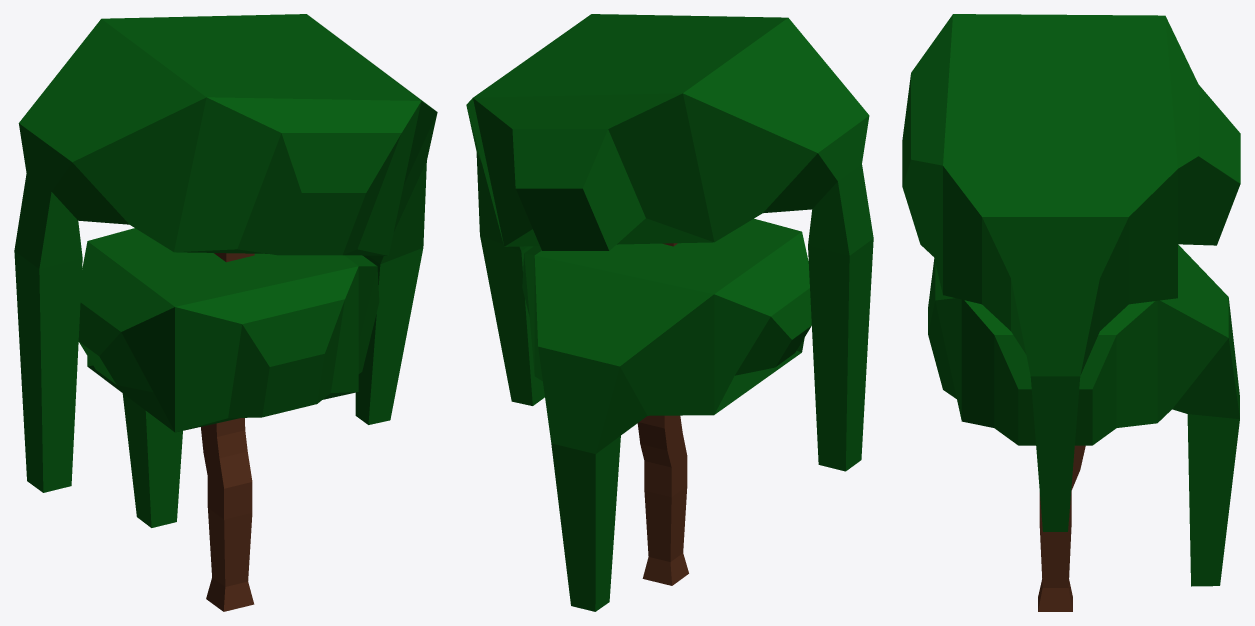
File: jungletree_1.glb
3 views of the same model, side by side, from view 1: azimuth 30°, elevation 25°; view 2: azimuth 150°, elevation 25°; view 3: azimuth 270°, elevation 25° (orthographic). The views are drawn at different scales.
Parts seen in each view (by area): view 1: Cube.003, Cube.002, Cube.001; view 2: Cube.003, Cube.002, Cube.001; view 3: Cube.003, Cube.002, Cube.001.
Part boxes in pixels (left/top/right/bottom): Cube.003: left=14, top=14, right=437, bottom=492; Cube.002: left=78, top=228, right=379, bottom=527; Cube.001: left=201, top=253, right=254, bottom=611; Cube.003: left=466, top=14, right=873, bottom=471; Cube.002: left=522, top=218, right=811, bottom=611; Cube.001: left=637, top=243, right=688, bottom=585; Cube.003: left=902, top=14, right=1240, bottom=531; Cube.002: left=928, top=244, right=1239, bottom=586; Cube.001: left=1038, top=445, right=1085, bottom=611.
Bounding box in the file's own units: 49.67 × 69.31 × 38.33.
